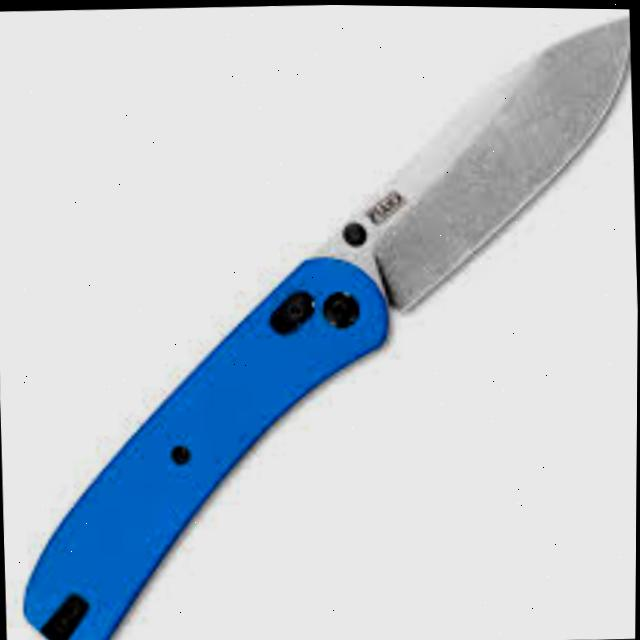Knife: (3, 3, 640, 640)
